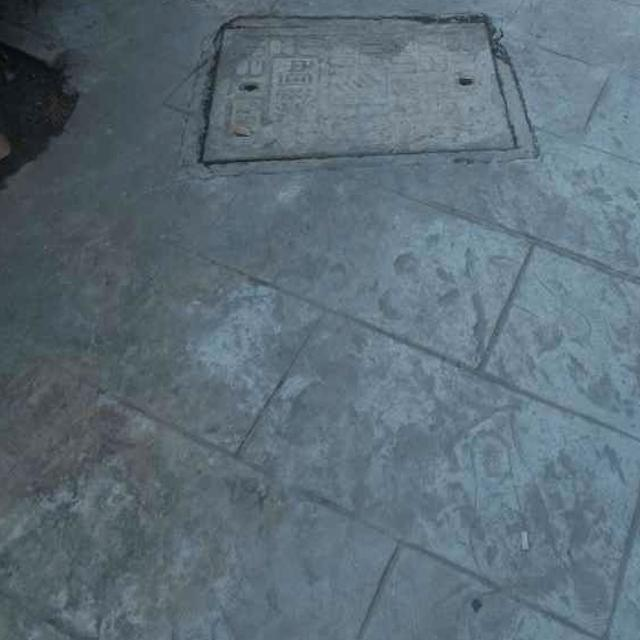good: (185, 10, 542, 177)
